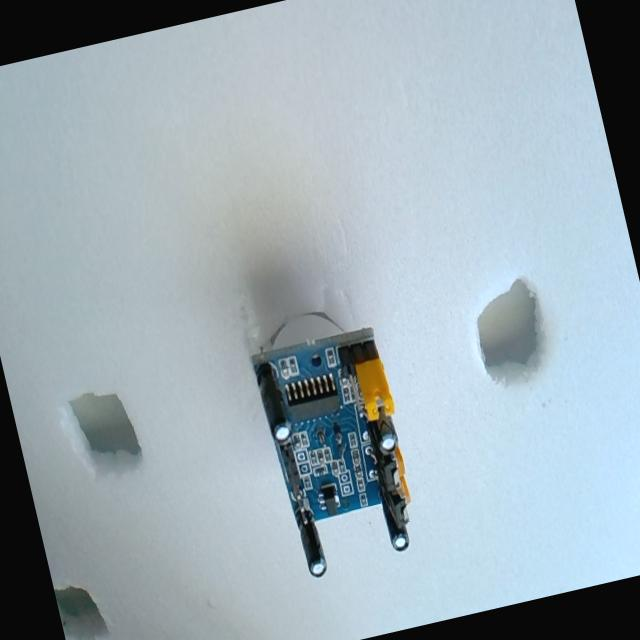Electrolytic capacitor: (254, 364, 294, 444), (295, 512, 329, 579), (378, 488, 412, 554), (370, 409, 400, 455)
IC: (278, 367, 342, 423)
pinheader: (278, 440, 304, 498)
